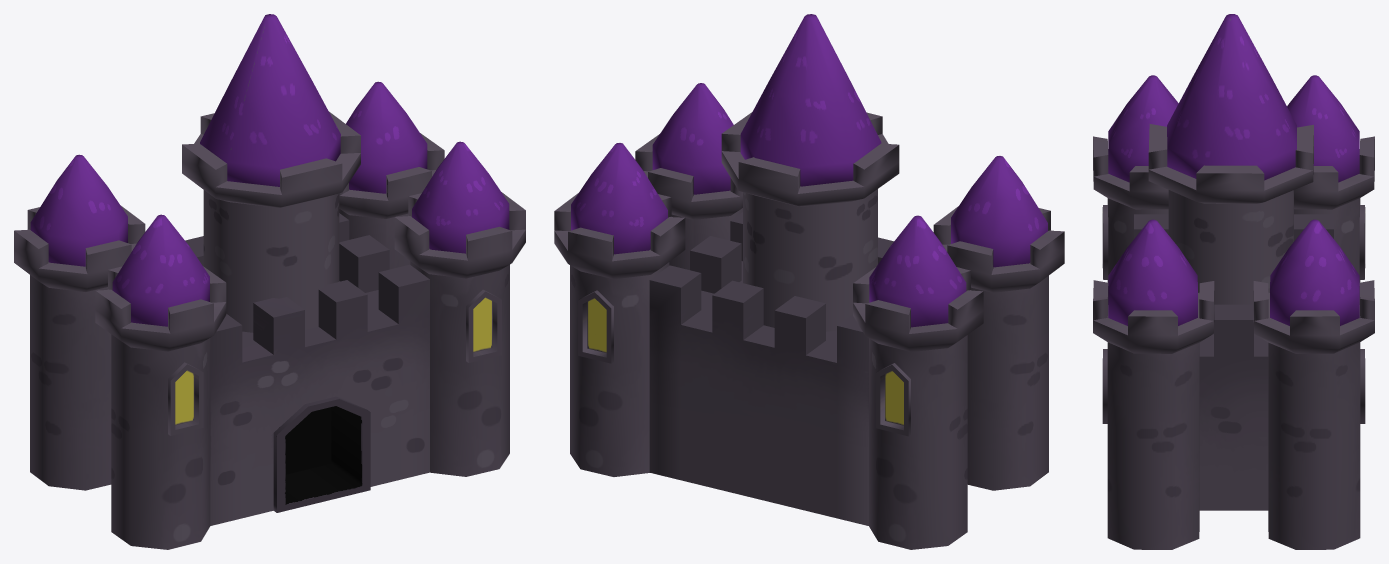
The model's file is GMTKCastle.fbx.
3 renders of one model, left to right at view 1: azimuth 30°, elevation 25°; view 2: azimuth 150°, elevation 25°; view 3: azimuth 270°, elevation 25°, orthographic.
Parts seen in each view (by area): view 1: Cube.004; view 2: Cube.004; view 3: Cube.004.
Part boxes in pixels (left/top/right/bottom): Cube.004: left=14, top=14, right=525, bottom=549; Cube.004: left=554, top=14, right=1064, bottom=549; Cube.004: left=1093, top=14, right=1374, bottom=549.
Bounding box in the file's own units: 1184 × 1246 × 721.
1 material, 1 textured.
